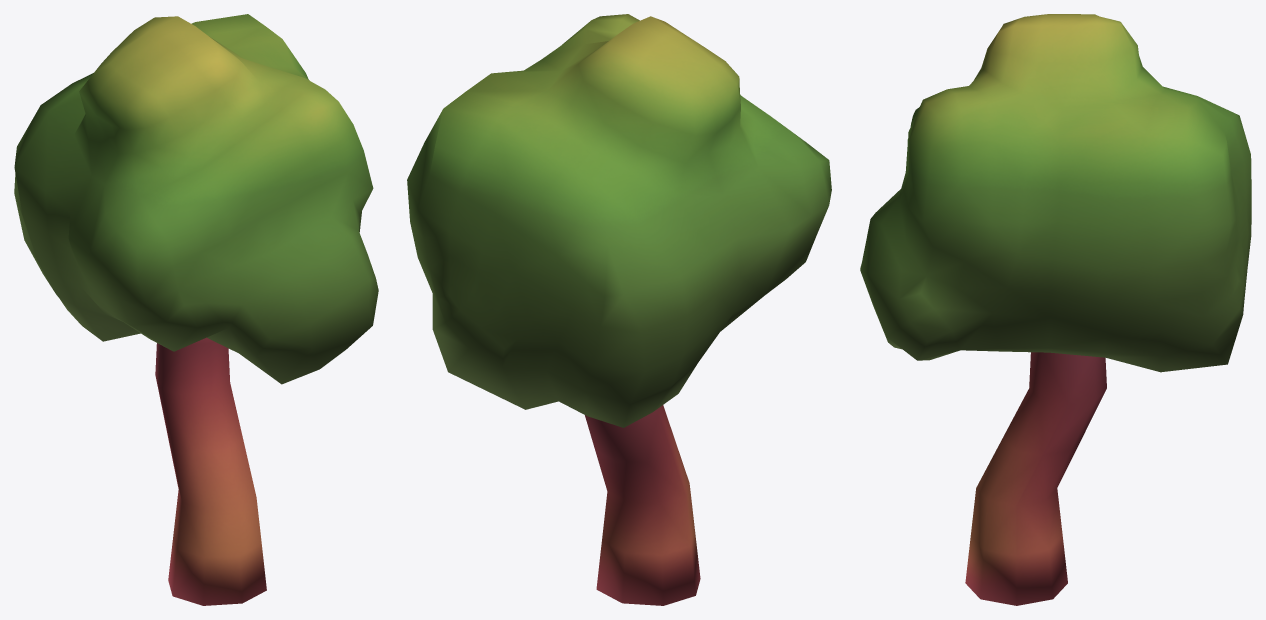
Rendered from GEO_arvore_1.fbx.
The picture shows the model from 3 angles, left to right: view 1: azimuth 30°, elevation 25°; view 2: azimuth 150°, elevation 25°; view 3: azimuth 270°, elevation 25°; orthographic projection. The views are drawn at different scales.
Visible parts, largest first — view 1: GEO_arvore_1; view 2: GEO_arvore_1; view 3: GEO_arvore_1.
Part boxes in pixels (bbox=[...]): GEO_arvore_1: bbox=[14, 14, 378, 605]; GEO_arvore_1: bbox=[407, 14, 831, 605]; GEO_arvore_1: bbox=[860, 14, 1251, 605].
Size of the model in its own units: 949 by 1682 by 1067.
